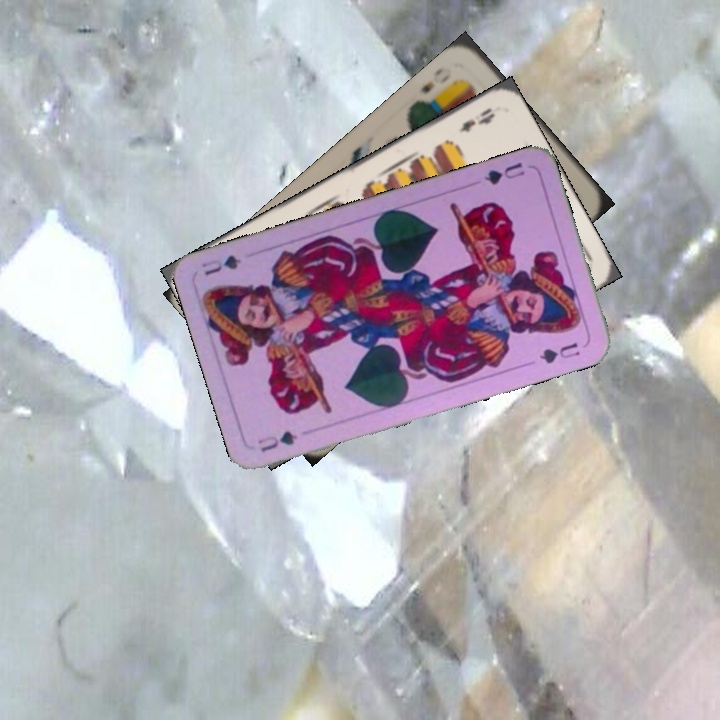E9: (455, 103, 498, 135)
EO: (416, 62, 455, 97)
GU: (480, 157, 528, 188), (253, 427, 300, 455)
